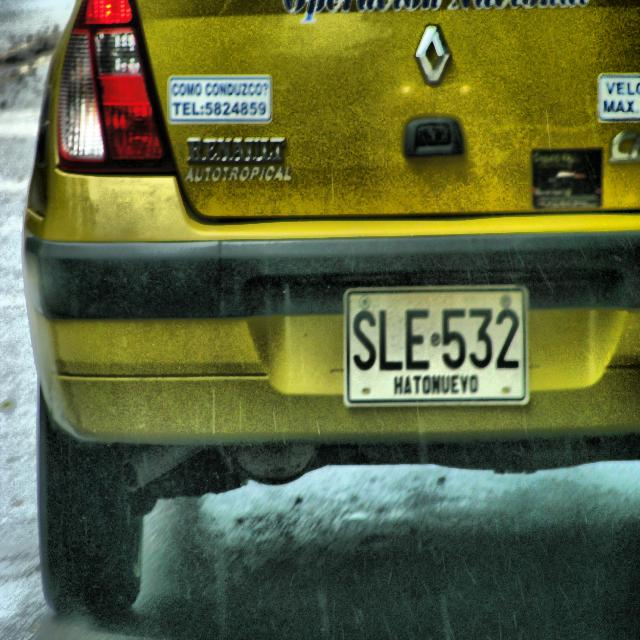plate: (343, 285, 529, 407)
